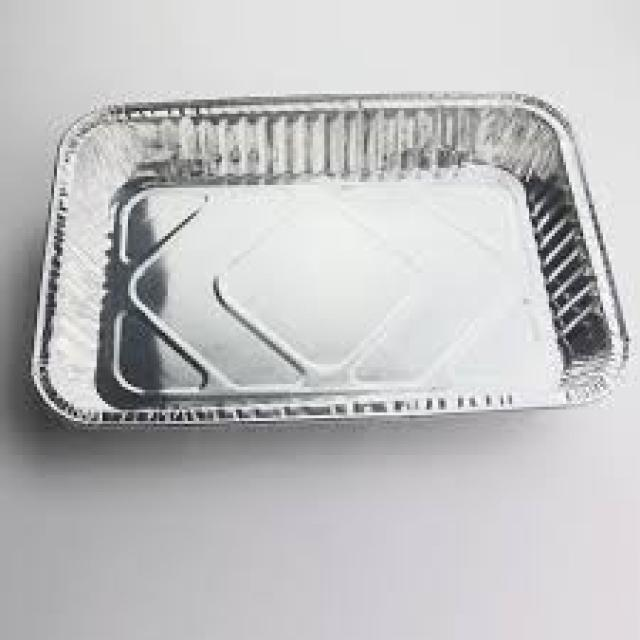kim_loai: (28, 91, 631, 432)
